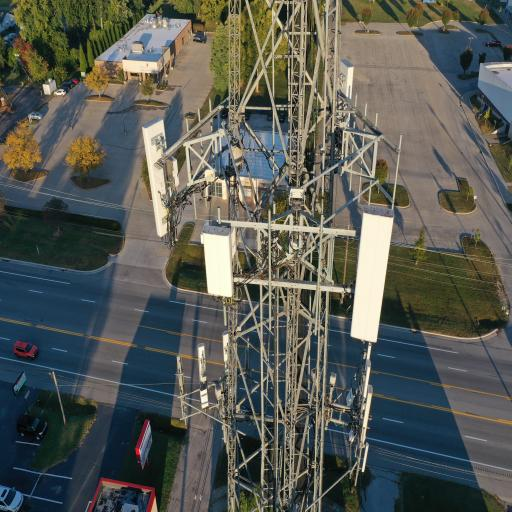supporting_tower: (148, 0, 418, 512)
